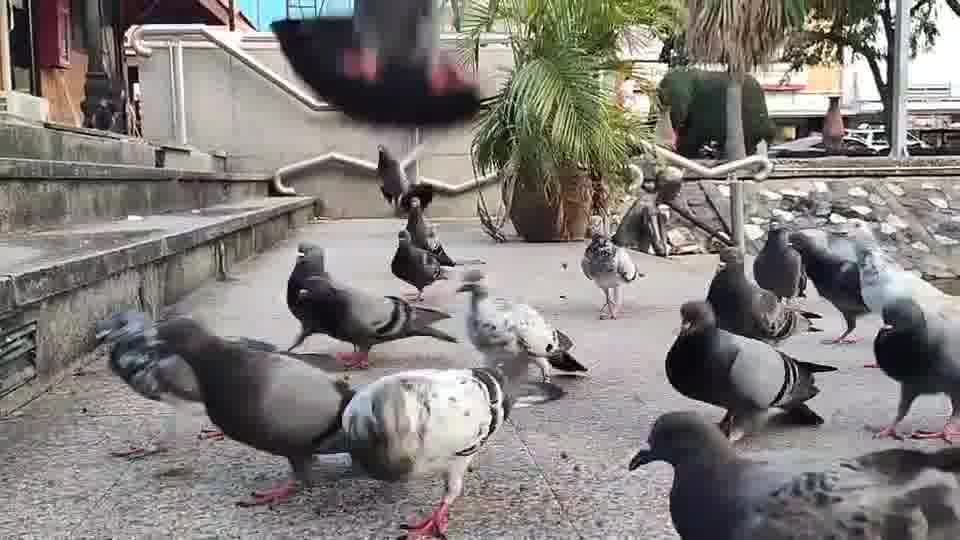Pigeon: (147, 317, 356, 509), (341, 364, 506, 537), (663, 300, 838, 440), (284, 239, 458, 369), (628, 410, 771, 539), (93, 308, 225, 444), (455, 276, 589, 383), (863, 297, 959, 444), (833, 445, 959, 539), (787, 226, 873, 344), (704, 243, 796, 342), (752, 223, 823, 332), (579, 216, 646, 320), (389, 228, 447, 301), (404, 196, 456, 266), (374, 143, 412, 210)
